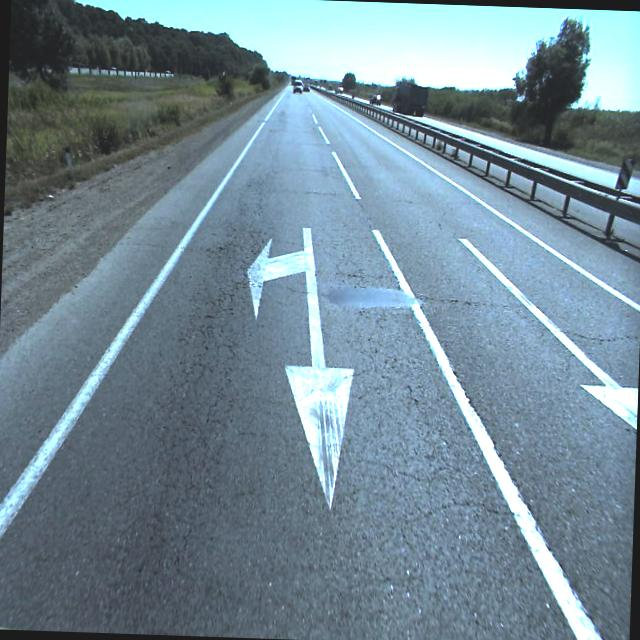road: (0, 85, 640, 640)
